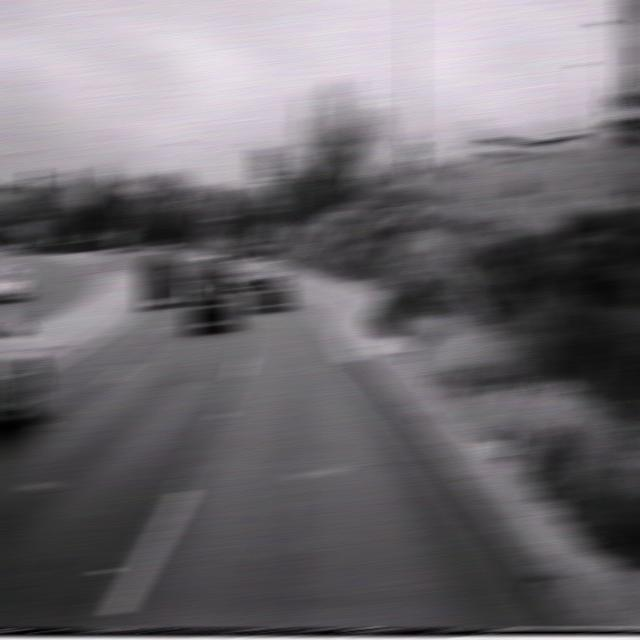pedestrianCrossing: (390, 122, 435, 189)
